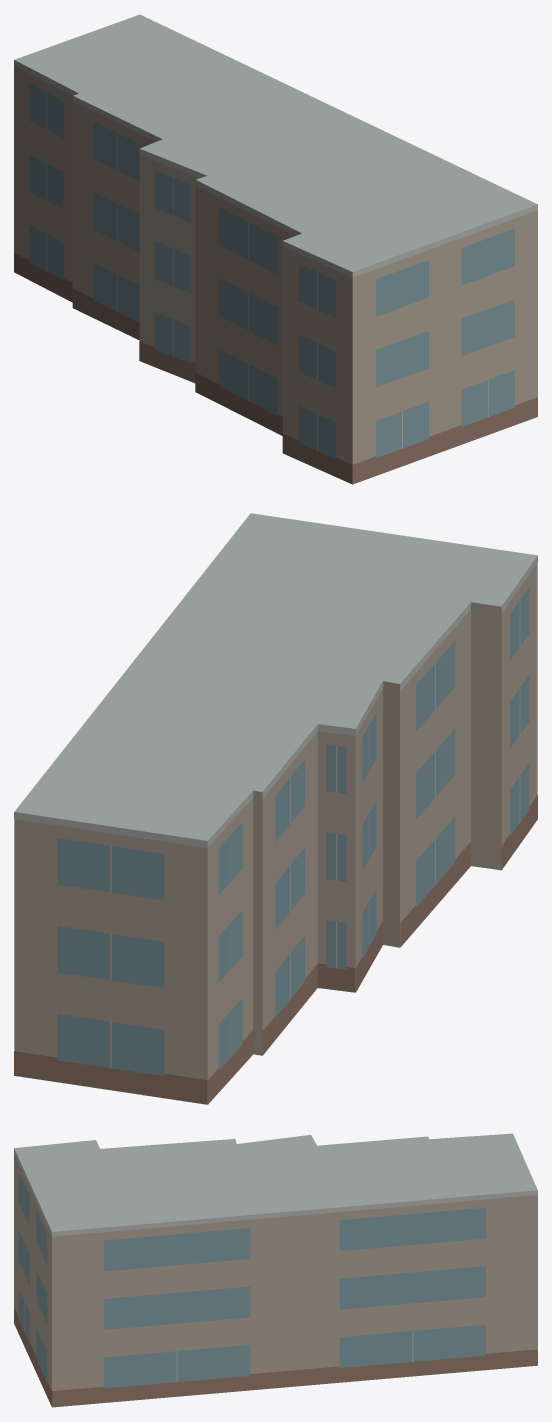
File: survey-upis-32605202.glb
3 views of the same model, one above another, from view 1: azimuth 30°, elevation 25°; view 2: azimuth 150°, elevation 25°; view 3: azimuth 270°, elevation 25° (orthographic). The views are drawn at different scales.
Parts seen in each view (by area): view 1: survey-upis-32605202.tmp; view 2: survey-upis-32605202.tmp; view 3: survey-upis-32605202.tmp.
Boxes of the visible parts, x1,y1,x2,y2 form: survey-upis-32605202.tmp: (14, 14, 537, 484); survey-upis-32605202.tmp: (14, 513, 537, 1104); survey-upis-32605202.tmp: (14, 1133, 537, 1407).
Size of the model in its own units: 11.04 by 9.15 by 24.78.
